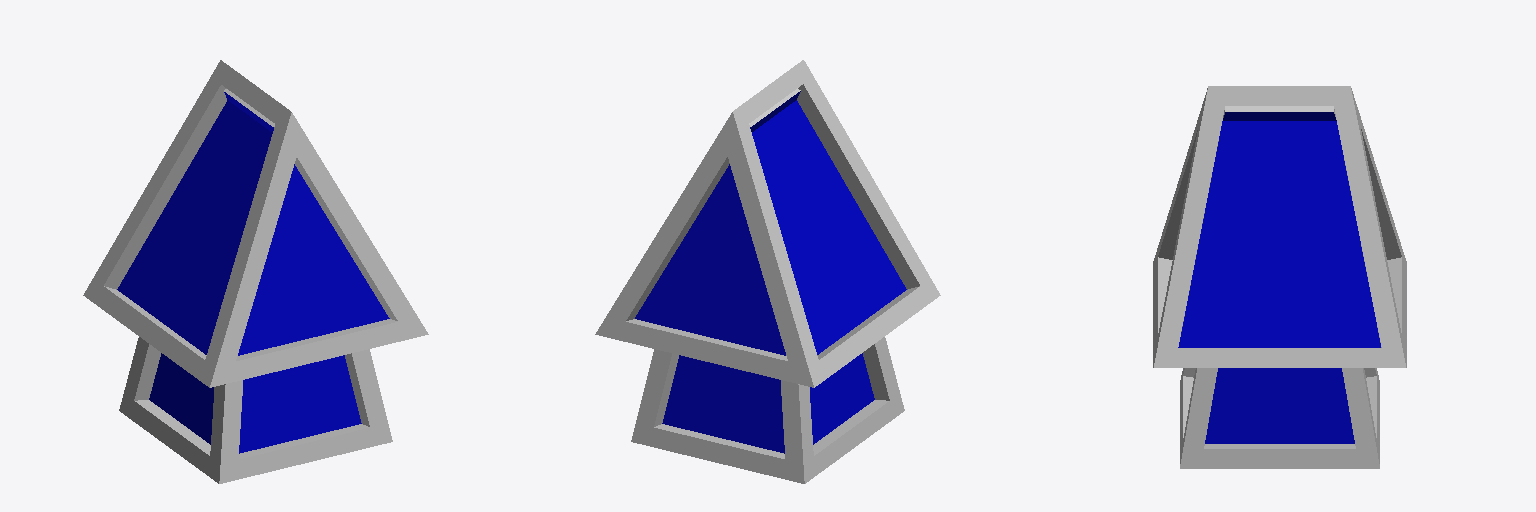
File: ArrowArtifactUp.obj
3 views of the same model, side by side, from view 1: azimuth 30°, elevation 25°; view 2: azimuth 150°, elevation 25°; view 3: azimuth 270°, elevation 25° (orthographic).
Parts seen in each view (by area): view 1: ArrowModel.001_Cube.002; view 2: ArrowModel.001_Cube.002; view 3: ArrowModel.001_Cube.002.
Part boxes in pixels (left/top/right/bottom): ArrowModel.001_Cube.002: left=83, top=60, right=428, bottom=483; ArrowModel.001_Cube.002: left=595, top=60, right=940, bottom=483; ArrowModel.001_Cube.002: left=1153, top=86, right=1406, bottom=468.
Bounding box in the file's own units: 1 × 1.49 × 1.